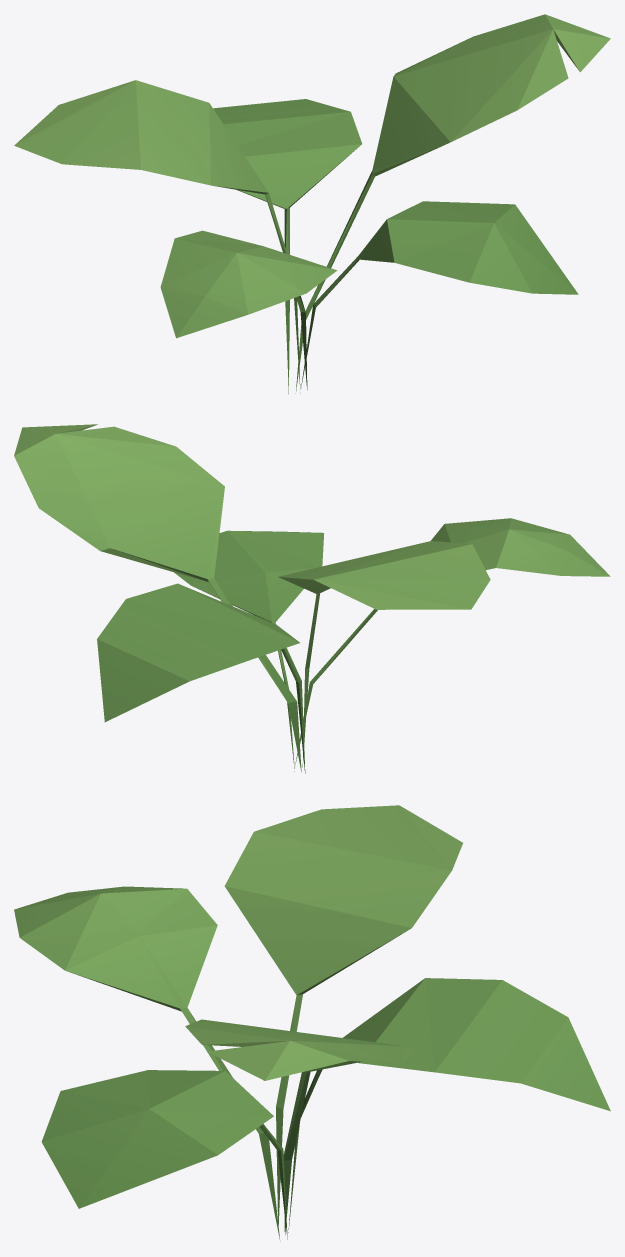
Rendered from Plant_01.fbx.
3 views of the same model, one above another, from view 1: azimuth 30°, elevation 25°; view 2: azimuth 150°, elevation 25°; view 3: azimuth 270°, elevation 25° (orthographic). The views are drawn at different scales.
Visible parts, largest first — view 1: Plant_01_LOD0; view 2: Plant_01_LOD0; view 3: Plant_01_LOD0.
Part boxes in pixels (x1,y1,x2,y2): Plant_01_LOD0: (14,14,610,394); Plant_01_LOD0: (14,424,610,773); Plant_01_LOD0: (14,805,610,1241).
Size of what is drawn, in the model's own units: 70.72 by 37.86 by 59.93.
